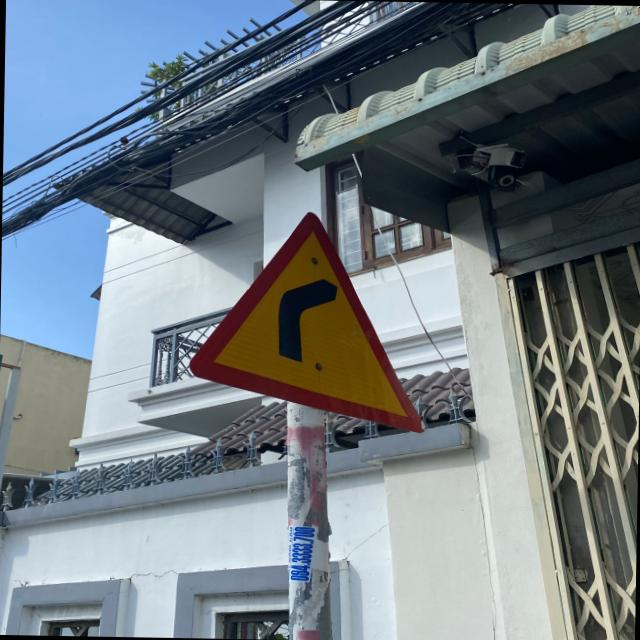Duong_Nguoi_Di_Bo_Cat_Ngang: (187, 210, 430, 432)
